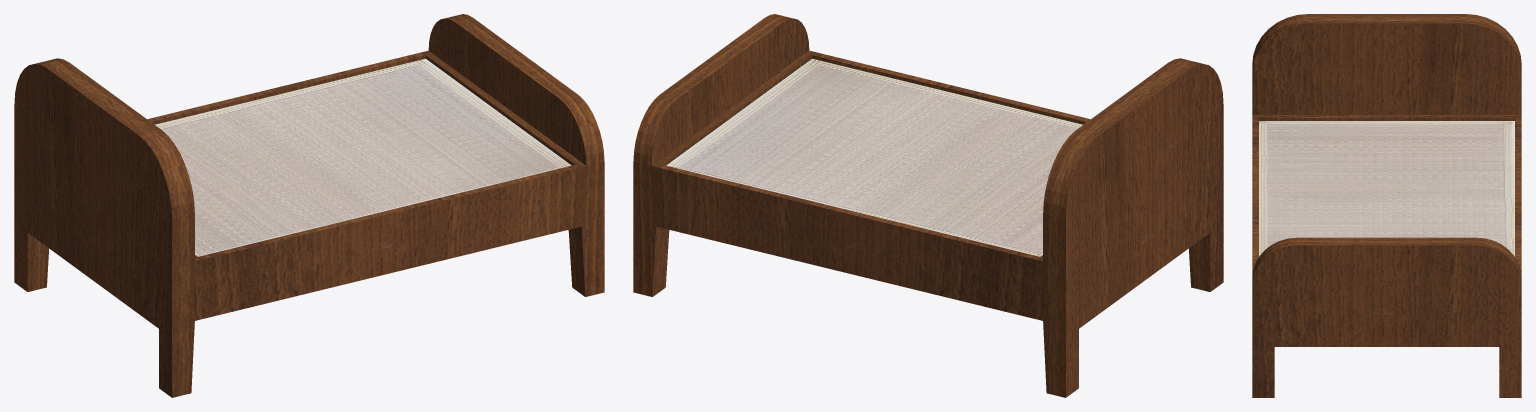
The model's file is bed.fbx.
3 renders of one model, left to right at view 1: azimuth 30°, elevation 25°; view 2: azimuth 150°, elevation 25°; view 3: azimuth 270°, elevation 25°, orthographic. The views are drawn at different scales.
Parts seen in each view (by area): view 1: Bed; view 2: Bed; view 3: Bed.
Boxes of the visible parts, x1,y1,x2,y2 form: Bed: [14, 14, 604, 397]; Bed: [633, 14, 1223, 397]; Bed: [1252, 14, 1521, 397].
Size of the model in its own units: 19000 by 10000 by 12000.
Materials: 2 (2 with a texture image).
